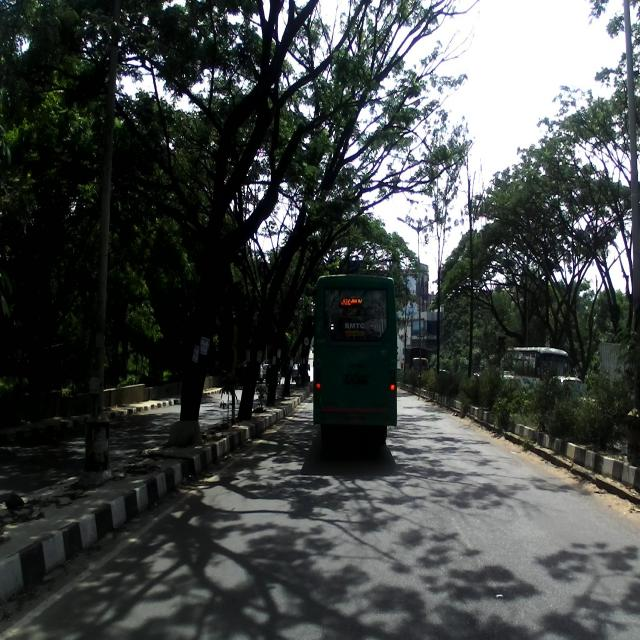bus: (312, 273, 399, 453)
